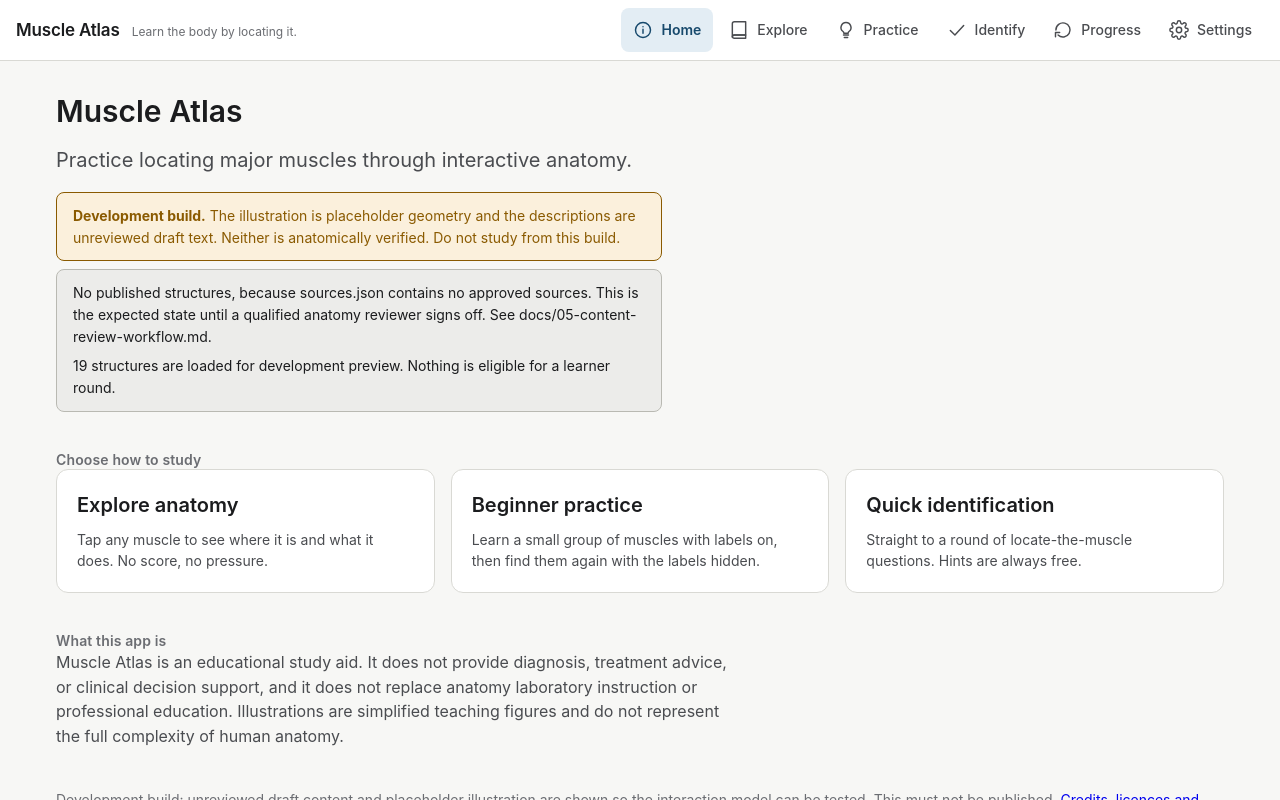
navigation › navigates between destinations
The image size is (1280, 800).
Click the link "Explore".
click(768, 30)  # box [729, 20, 808, 40]
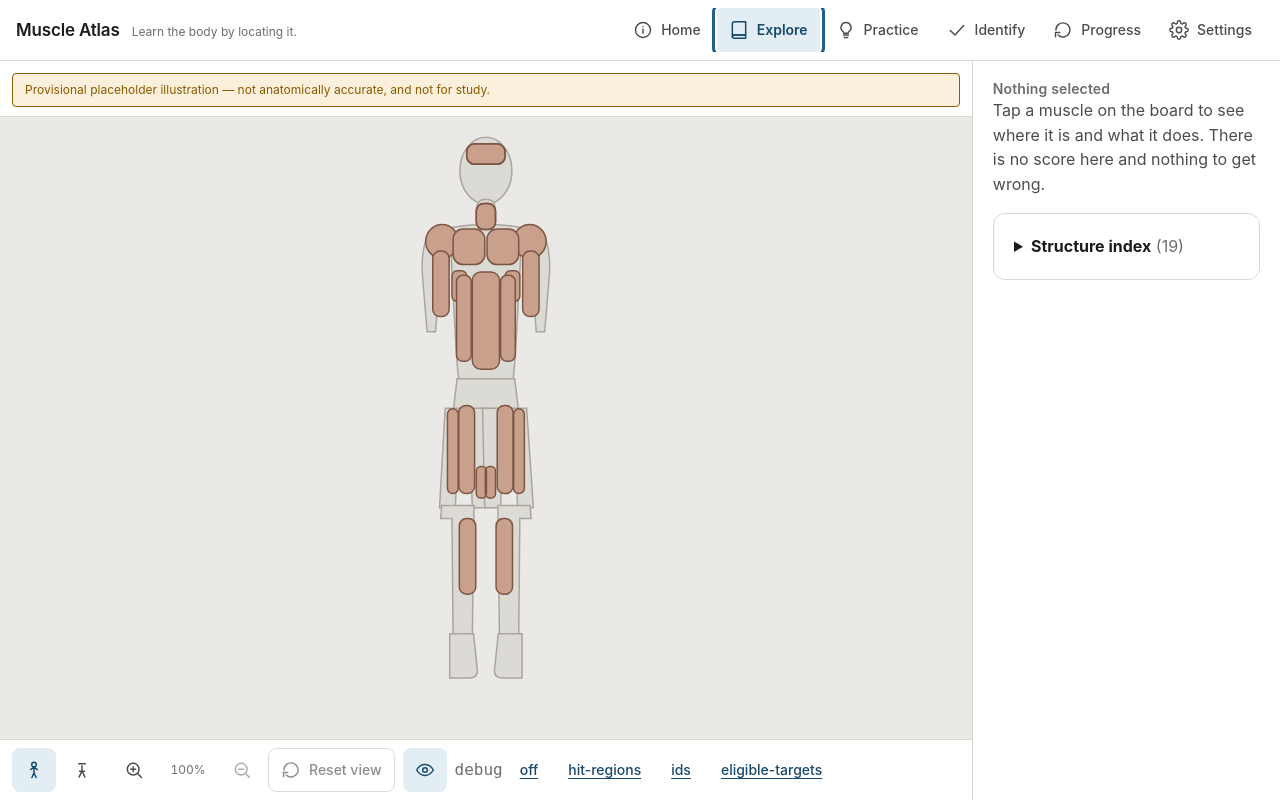
Expected: the element named "Anatomy board" is shown
